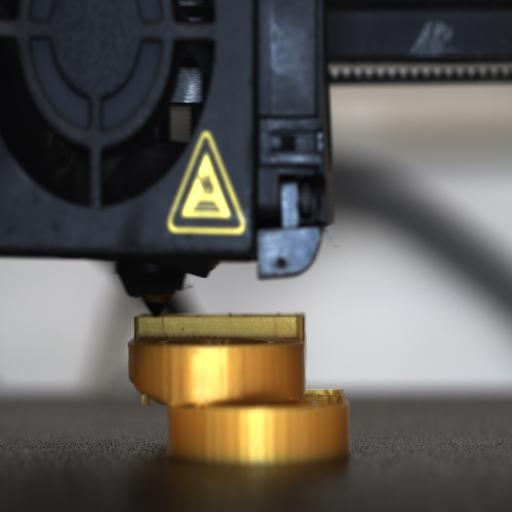layer_shift: (129, 382, 355, 411)
